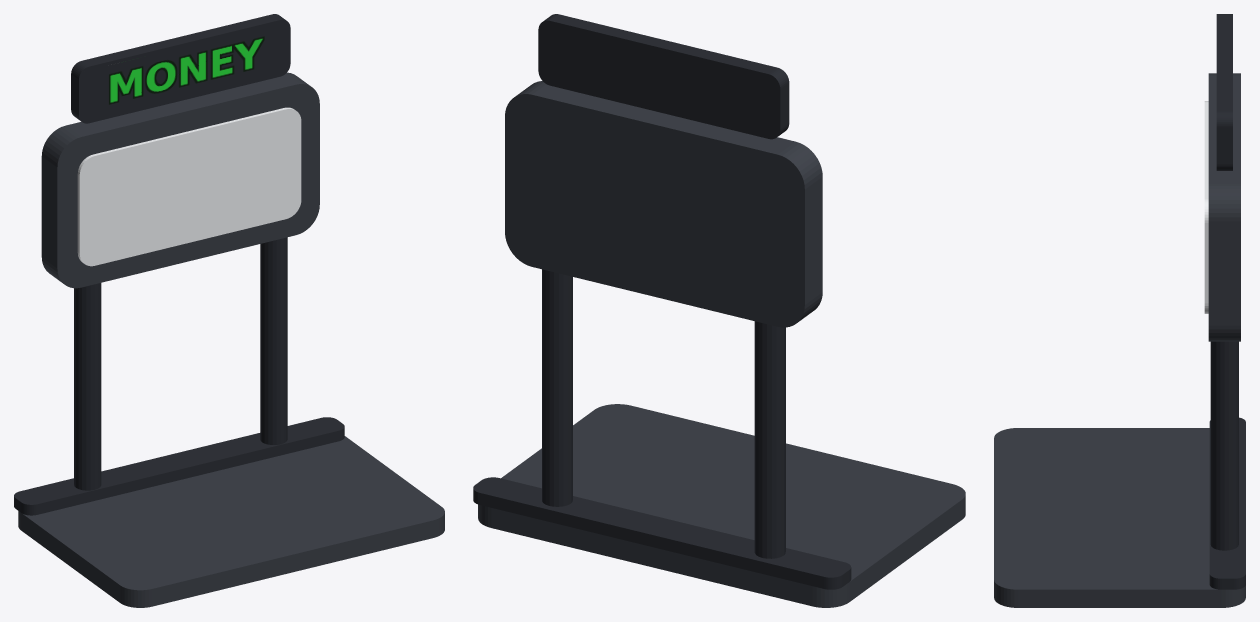
The model's file is MoneyATM.glb.
3 views of the same model, side by side, from view 1: azimuth 30°, elevation 25°; view 2: azimuth 150°, elevation 25°; view 3: azimuth 270°, elevation 25° (orthographic). The views are drawn at different scales.
Visible parts, largest first — view 1: geometry_0; view 2: geometry_0; view 3: geometry_0.
Boxes of the visible parts, x1,y1,x2,y2 form: geometry_0: [14, 14, 444, 607]; geometry_0: [473, 14, 965, 607]; geometry_0: [994, 14, 1245, 607].
Size of the model in its own units: 1.9 by 2.54 by 1.25.
Materials: 1 (1 with a texture image).
